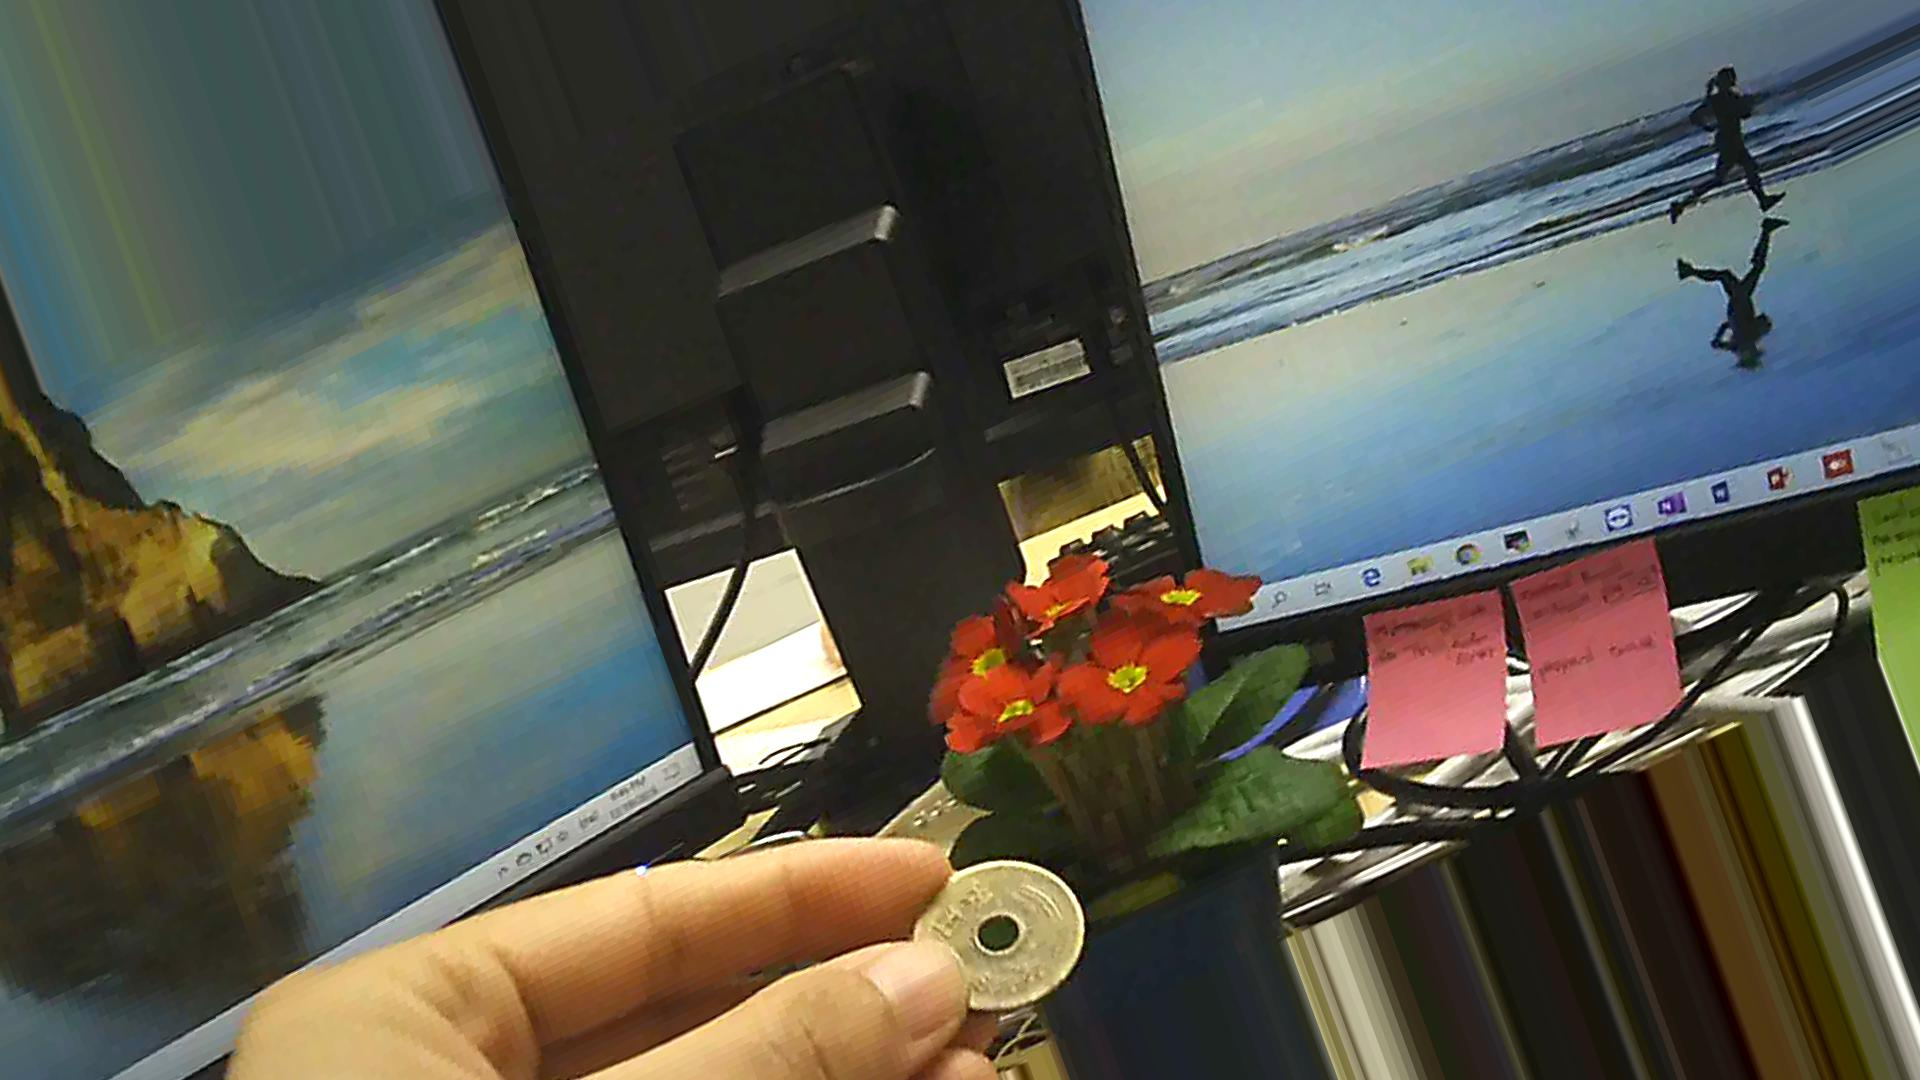5 Yen: (901, 856, 1091, 1019)
